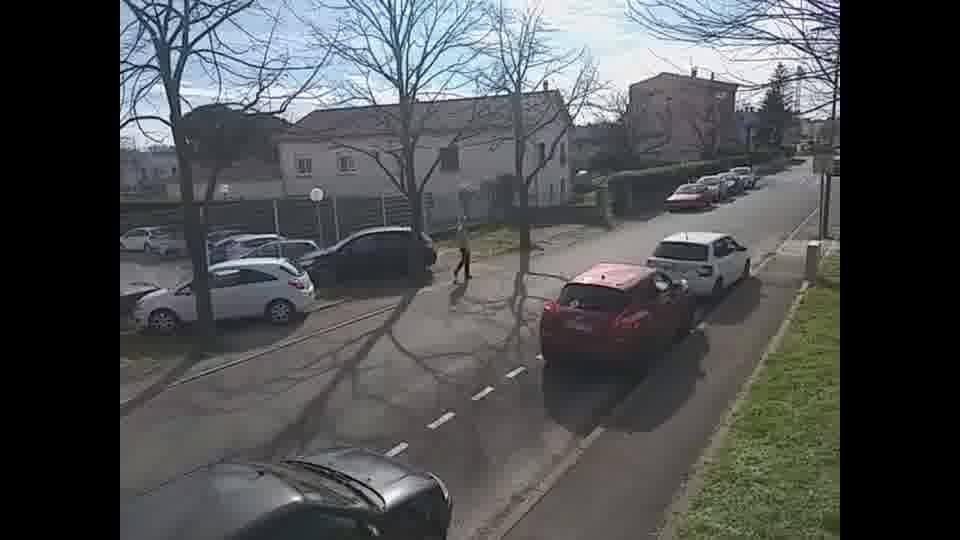jugador: (448, 206, 479, 283)
